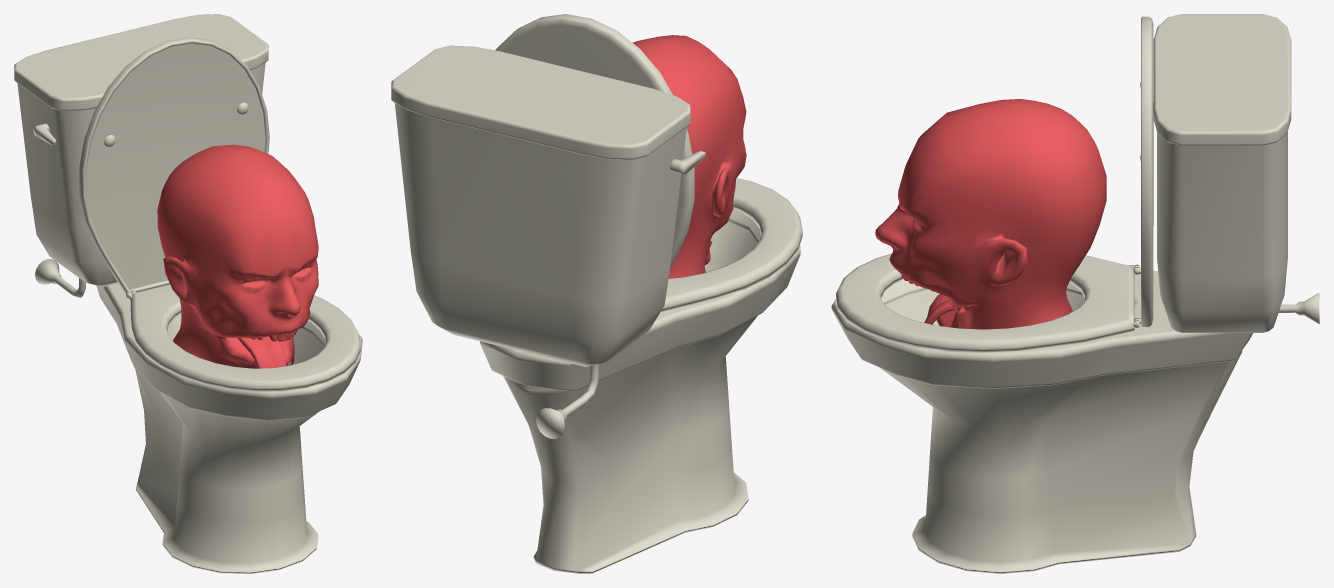
File: skibidi.fbx
3 views of the same model, side by side, from view 1: azimuth 30°, elevation 25°; view 2: azimuth 150°, elevation 25°; view 3: azimuth 270°, elevation 25° (orthographic). The views are drawn at different scales.
Visible parts, largest first — view 1: Toilet, Body_1; view 2: Toilet, Body_1; view 3: Toilet, Body_1.
Part boxes in pixels (<box>): Toilet: <box>14,14,362,573</box>; Body_1: <box>157,144,318,368</box>; Toilet: <box>391,14,802,573</box>; Body_1: <box>633,35,746,278</box>; Toilet: <box>831,14,1319,573</box>; Body_1: <box>875,99,1106,329</box>.
Bounding box in the file's own units: 11501 × 22376 × 19363.
